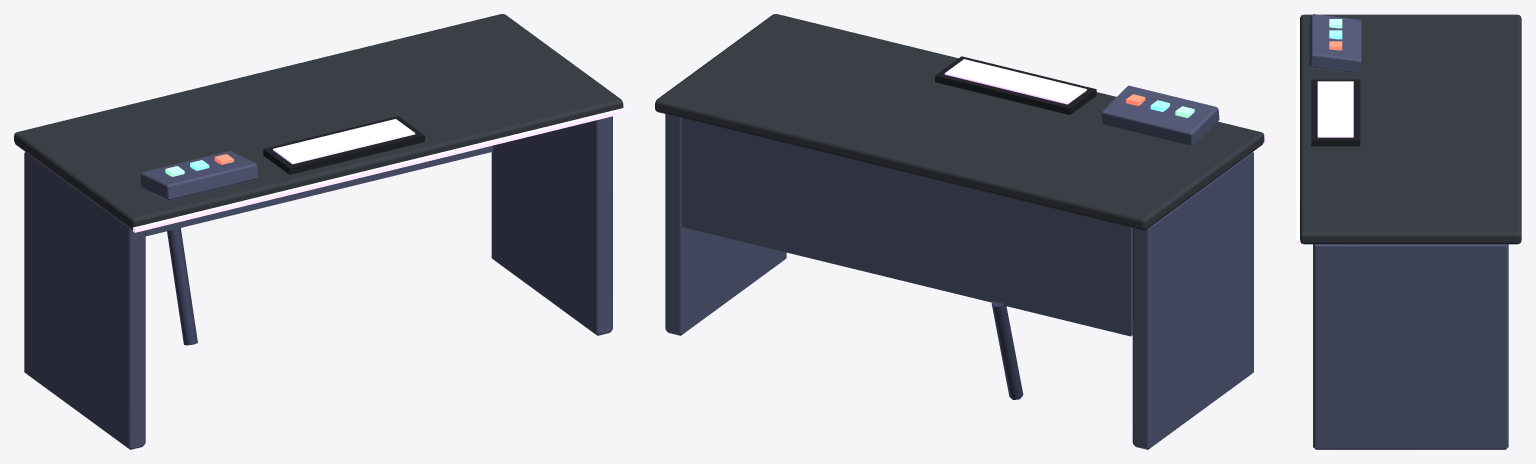
The model's file is station_processing_basis.glb.
3 views of the same model, side by side, from view 1: azimuth 30°, elevation 25°; view 2: azimuth 150°, elevation 25°; view 3: azimuth 270°, elevation 25° (orthographic). The views are drawn at different scales.
Visible parts, largest first — view 1: station_processing_basis; view 2: station_processing_basis; view 3: station_processing_basis.
Part boxes in pixels (x1,y1,x2,y2): station_processing_basis: [14, 14, 626, 449]; station_processing_basis: [655, 14, 1267, 449]; station_processing_basis: [1296, 14, 1521, 449].
Bounding box in the file's own units: 1.6 × 0.804 × 0.691.
